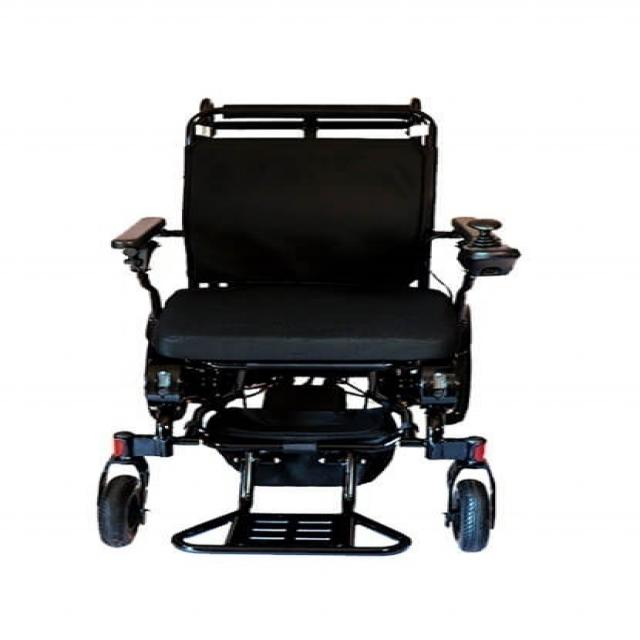wheelchair: (63, 71, 577, 583)
